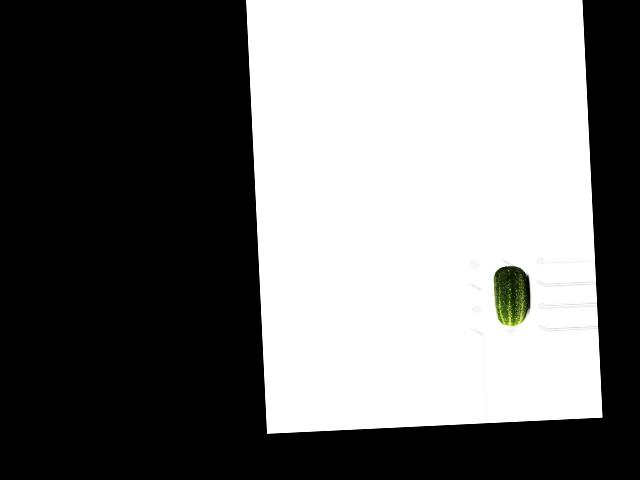cucumber: (493, 264, 530, 326)
